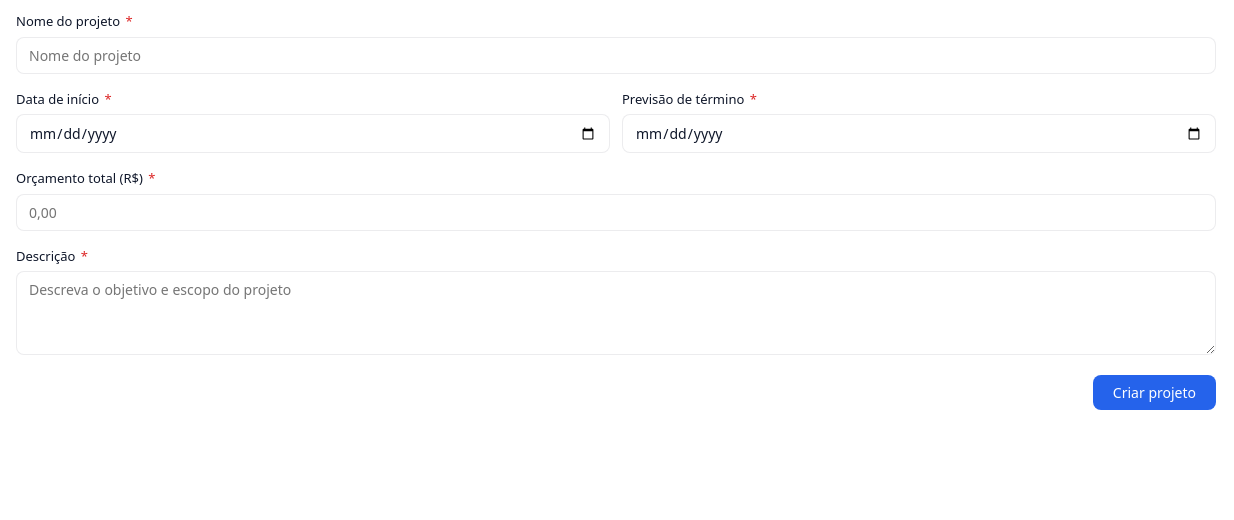
Test: ProjectForm › exibe erros de validação ao submeter com campos obrigatórios vazios
Click the button "Criar projeto". click: coordinates (1154, 392)
box: 1093,375 -> 1216,410
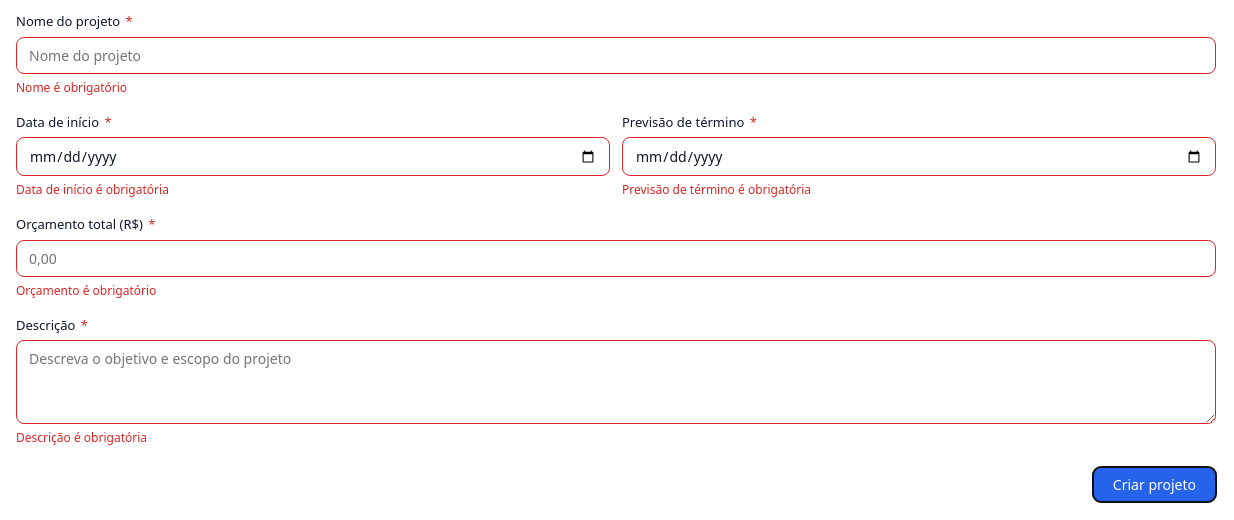
Check: the text "Nome é obrigatório" is shown, box 16,78 -> 127,96
Check: the text "Data de início é obrigatória" is shown, box 16,181 -> 169,198
Check: the text "Orçamento é obrigatório" is shown, box 16,282 -> 156,298
